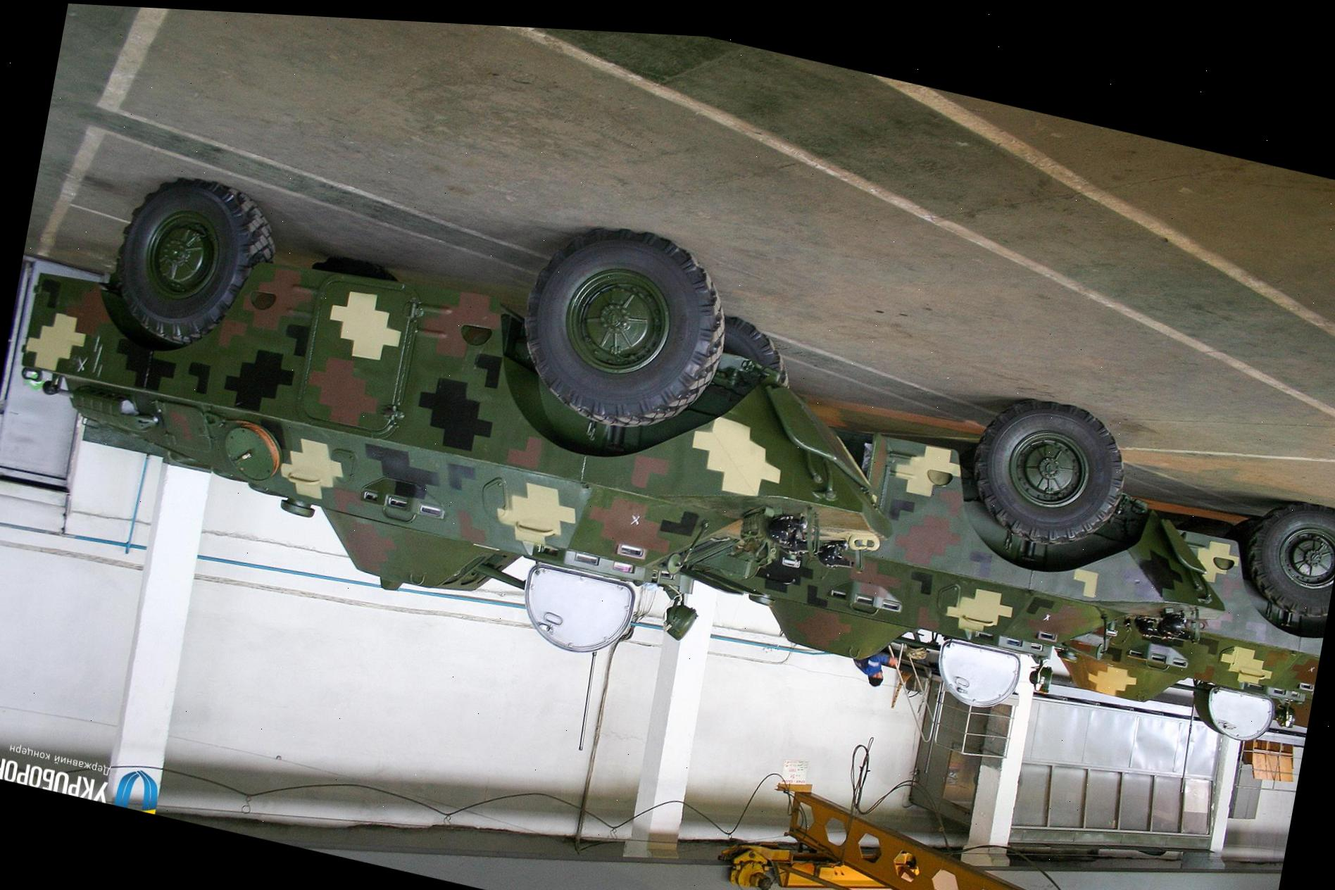person: (849, 632, 897, 695)
tank: (0, 97, 888, 701), (622, 312, 1242, 745), (1084, 452, 1335, 731)
